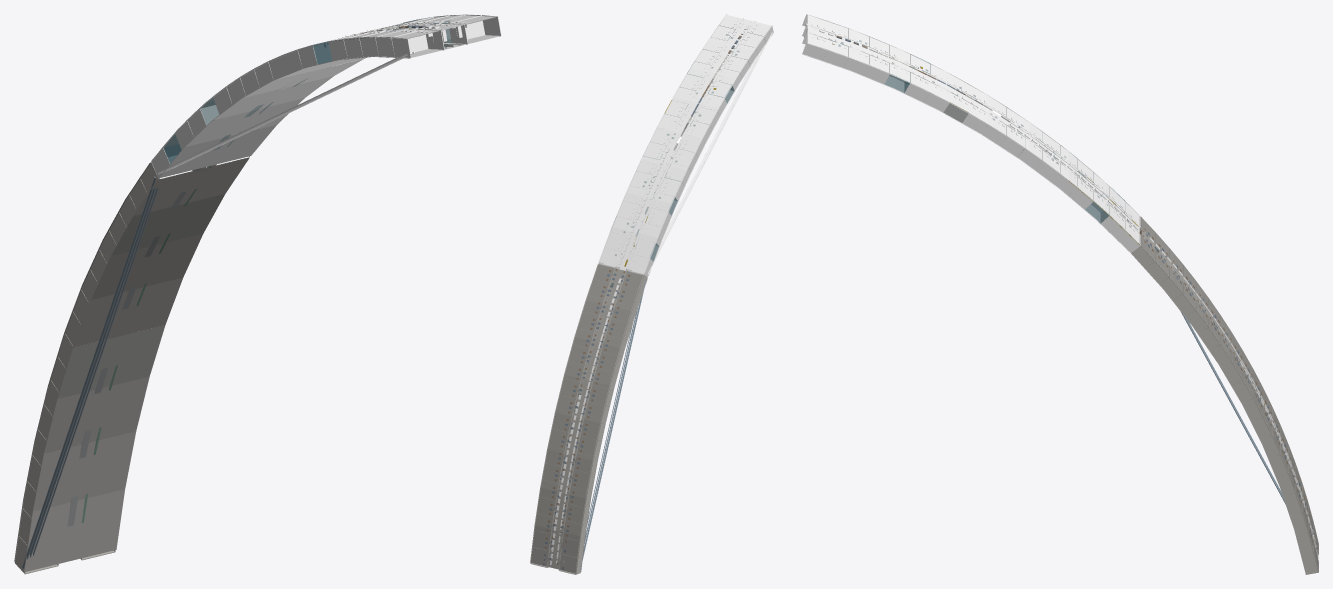
The model's file is xuanshu_interior_C36.glb.
The picture shows the model from 3 angles, left to right: view 1: azimuth 30°, elevation 25°; view 2: azimuth 150°, elevation 25°; view 3: azimuth 270°, elevation 25°; orthographic projection. The views are drawn at different scales.
Visible parts, largest first — view 1: UNIT-HAB-005_S0; view 2: UNIT-HAB-005_S0; view 3: UNIT-HAB-005_S0.
Boxes of the visible parts, bbox=[...] form: UNIT-HAB-005_S0: bbox=[14, 14, 501, 574]; UNIT-HAB-005_S0: bbox=[530, 14, 773, 574]; UNIT-HAB-005_S0: bbox=[802, 14, 1318, 574].
Size of the model in its own units: 17.31 by 146 by 129.
